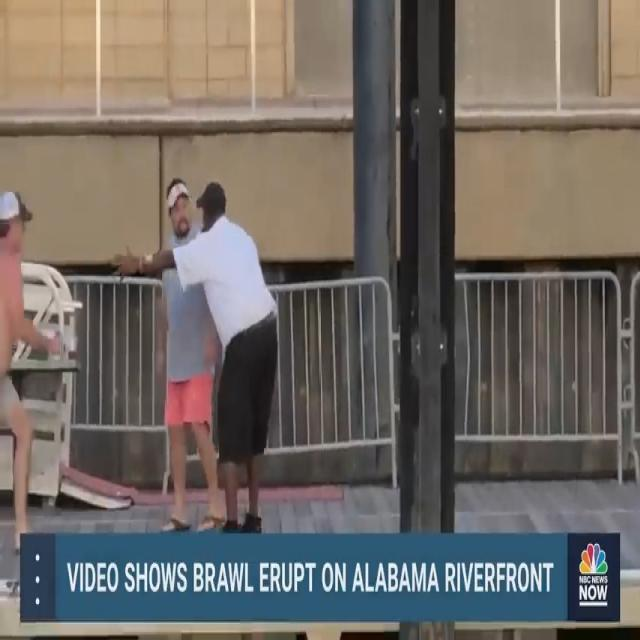non-fight: (101, 166, 286, 530), (0, 175, 66, 538)
